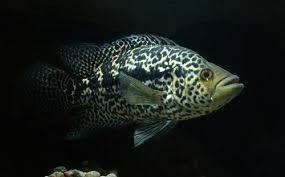Jaguar Gapote: (33, 35, 245, 150)
